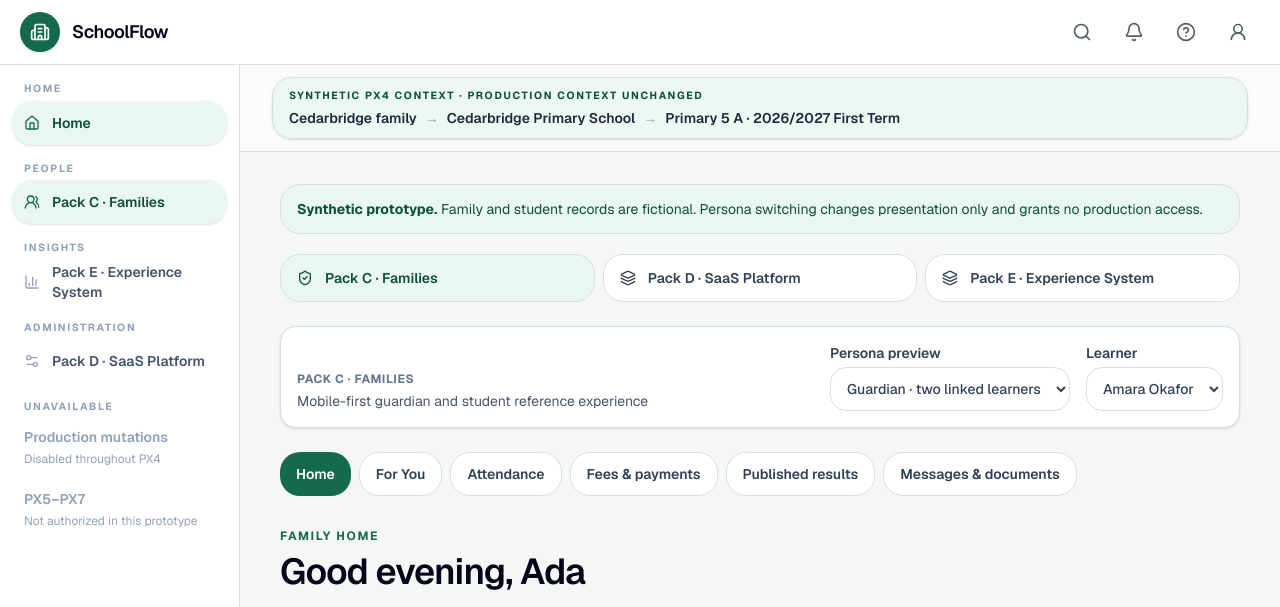
PX4 Prototype Packs C–E › uses distinct and internally reconciled sibling Finance fixtures
The width and height of the screenshot is (1280, 607).
Click the button "Fees & payments" at (644, 474), box [570, 452, 718, 496]
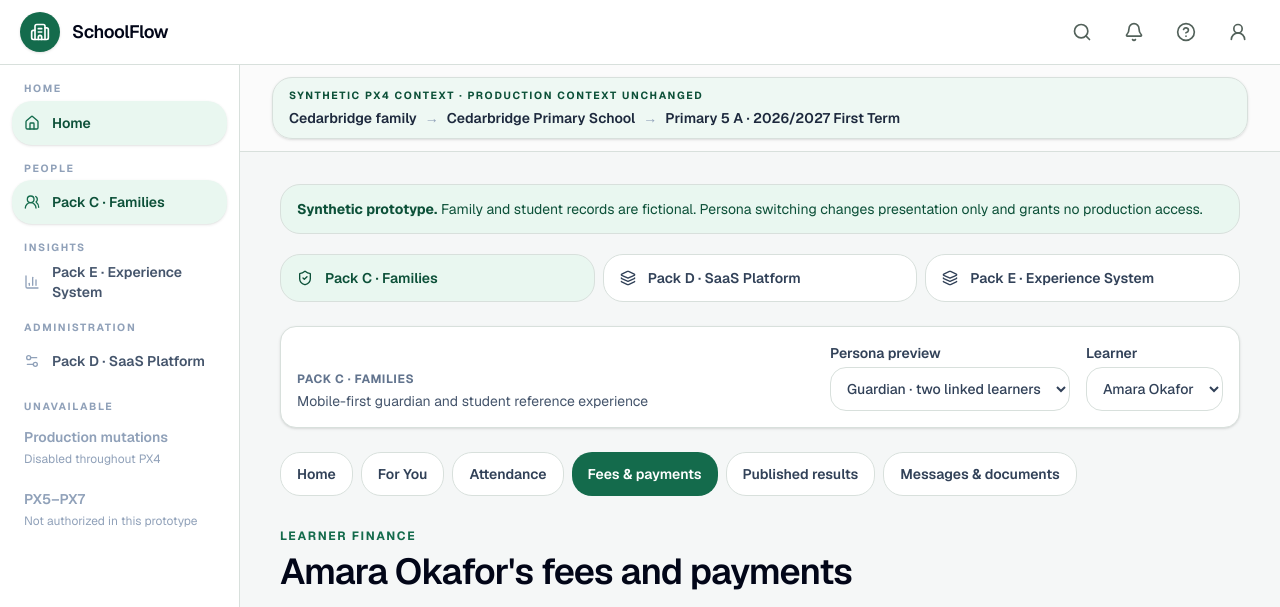
Select "Musa Ibrahim" in the dropdown named "Linked learner" at (1154, 389), box [1086, 367, 1223, 411]
(page scrolled)
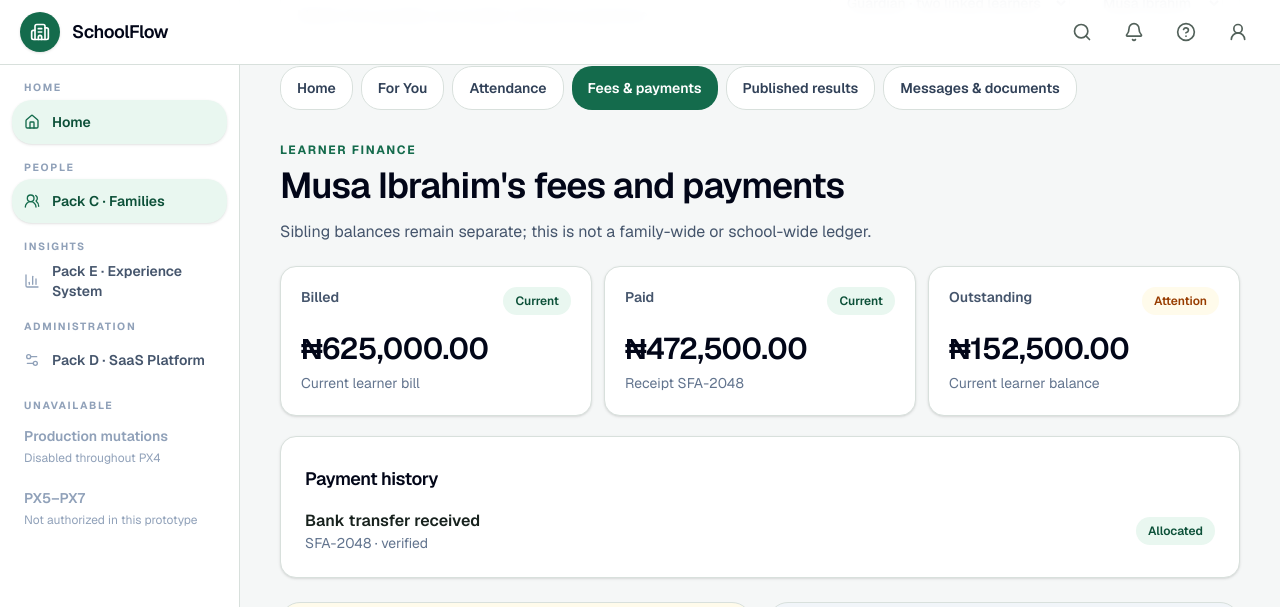
Check: the text "Receipt SFA-2048" is shown, box [625, 374, 744, 392]
